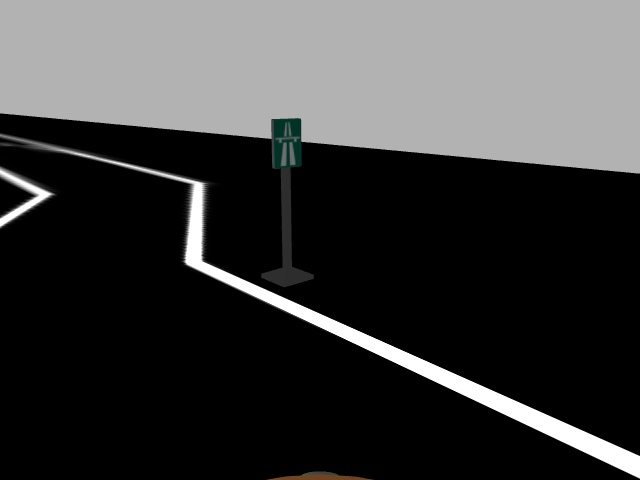enter_highway: (269, 117, 304, 170)
